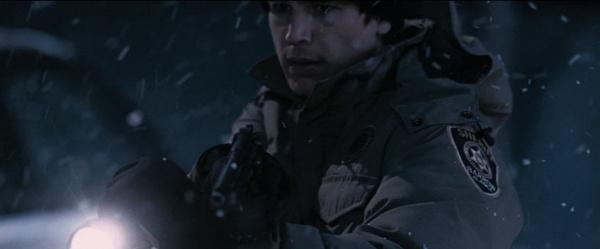Gun: (210, 125, 257, 213)
